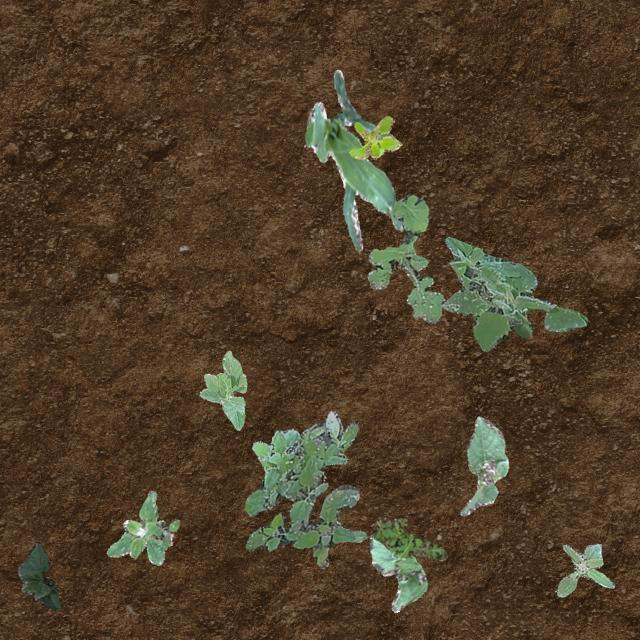crop: (304, 69, 402, 252), (458, 416, 508, 516), (368, 534, 426, 612), (198, 350, 246, 430), (16, 542, 58, 608)
weed: (244, 410, 366, 568), (441, 236, 586, 350), (366, 192, 444, 322), (105, 490, 178, 564), (371, 518, 446, 560), (556, 542, 614, 596), (348, 115, 400, 158)
